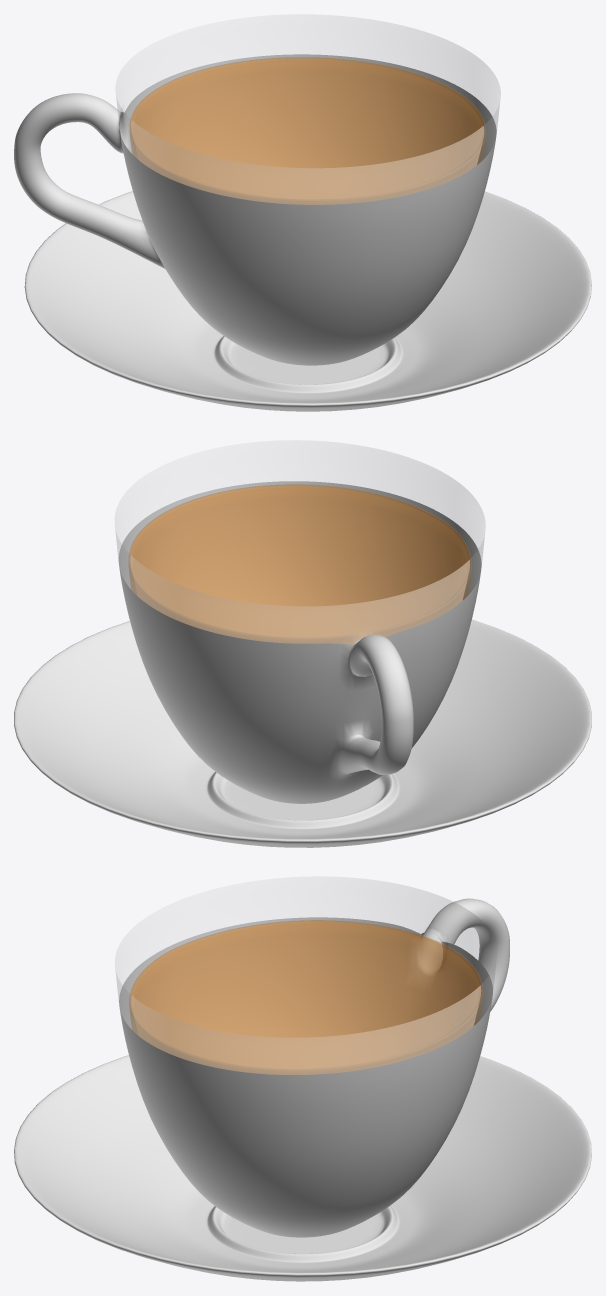
Rendered from CoffeeCup.gltf.
3 renders of one model, top to bottom at view 1: azimuth 30°, elevation 25°; view 2: azimuth 150°, elevation 25°; view 3: azimuth 270°, elevation 25°, orthographic.
Visible parts, largest first — view 1: CoffeeCup; view 2: CoffeeCup; view 3: CoffeeCup.
Part boxes in pixels (x1,y1,x2,y2): CoffeeCup: (14,14,591,411); CoffeeCup: (14,440,591,847); CoffeeCup: (14,876,591,1281).
Size of the model in its own units: 0.1548 by 0.0806 by 0.1548.
